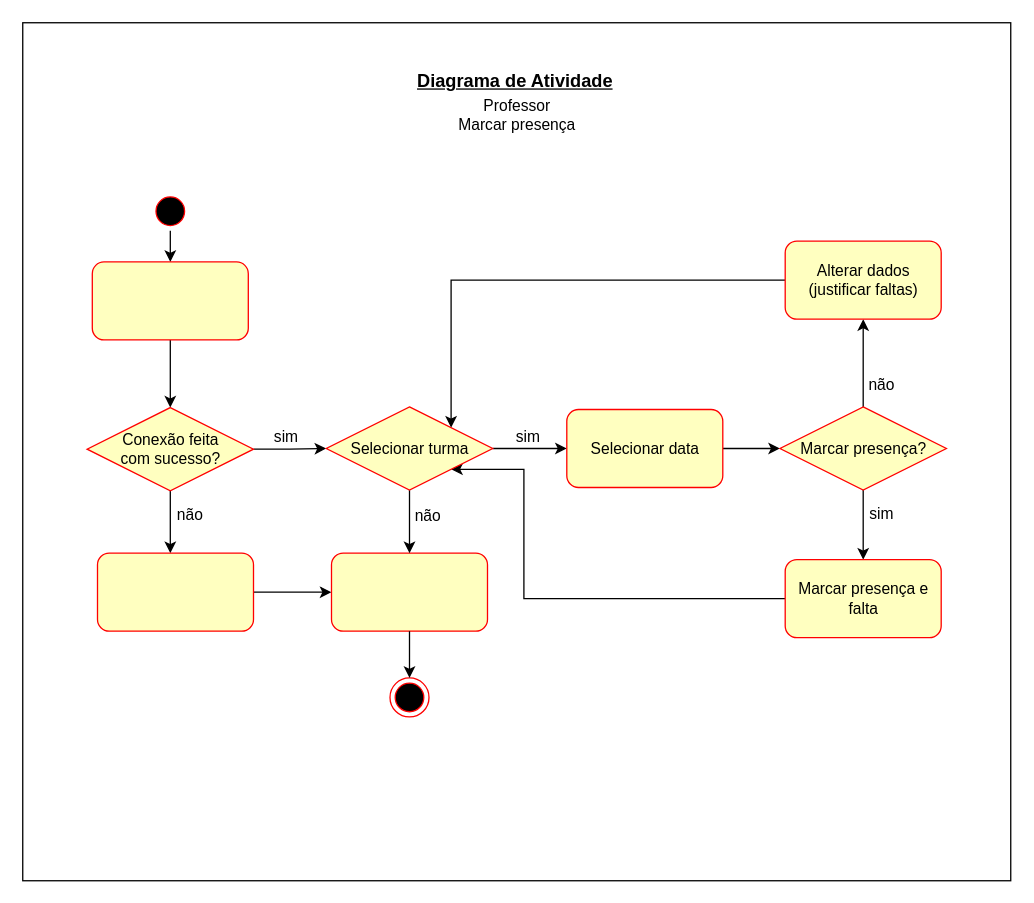
The diagram is 1034 pixels wide and 903 high, and some of its shapes have lost their labels. The shapes that lost their labels are listed below. From the top down, each one's box as (x1, y1, x2, y2) in pixels, then its label:
(91, 261, 248, 340): Navegar pela página "Pauta de presença"
(96, 552, 254, 631): Exibe mensagem: "ERRR 500 Internal server error. Tente mais tarde"
(330, 552, 488, 631): Retornar para Home
